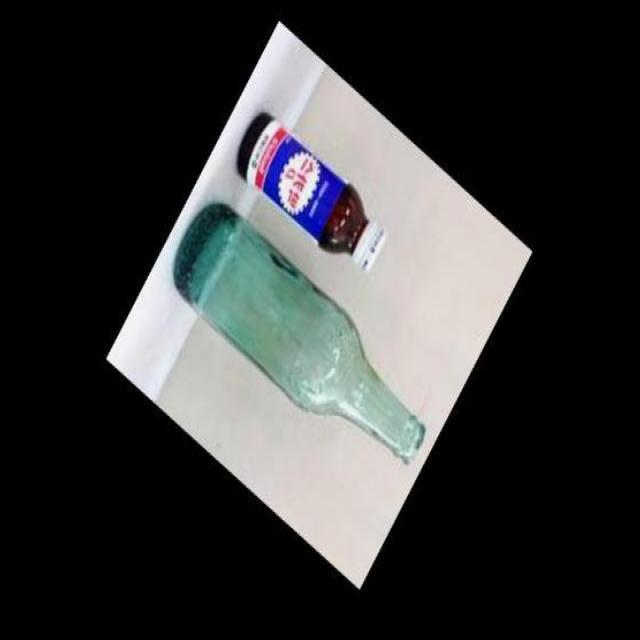Glass: (171, 197, 427, 467), (234, 106, 392, 278)
